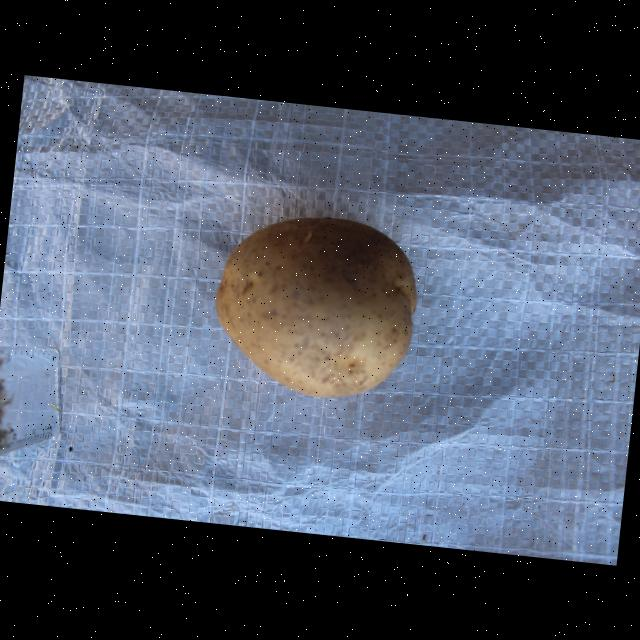Diseased-fungal potato: (202, 201, 430, 410)
